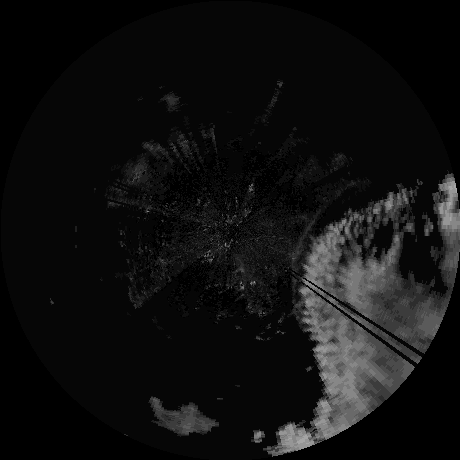frontgust: (291, 213, 315, 294)
